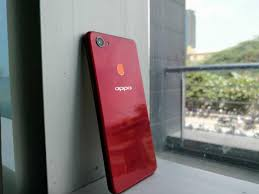oppo: (79, 28, 161, 194)
